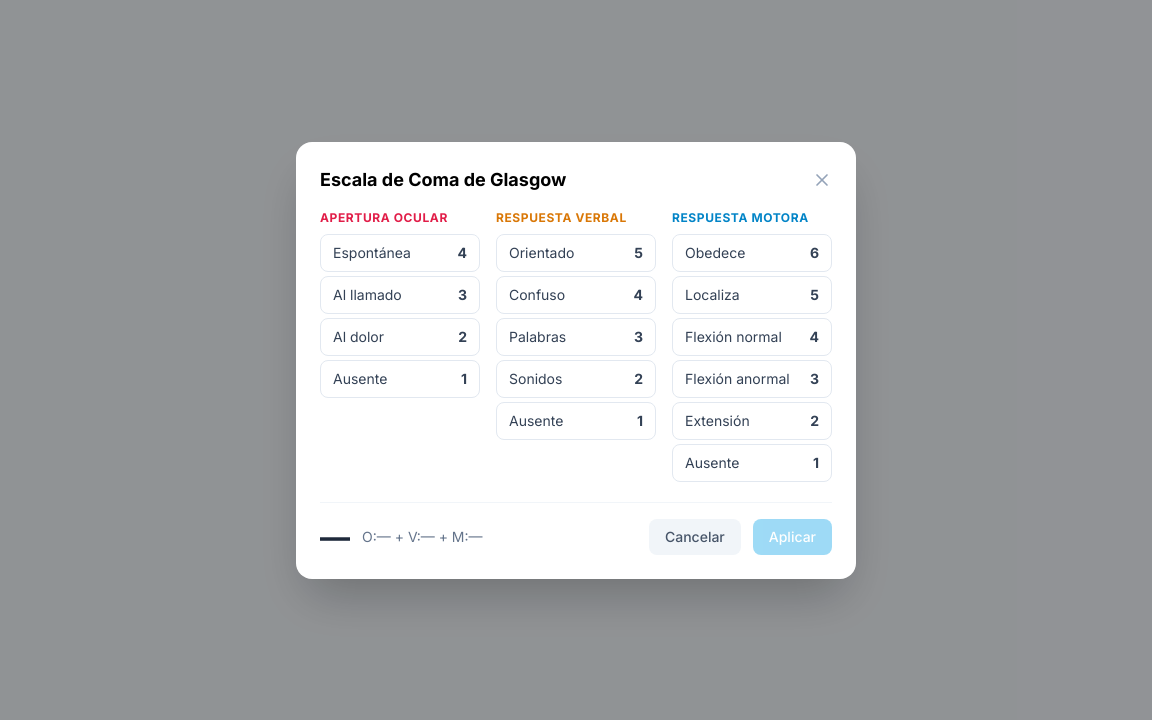
Test: KAN-79: GlasgowModal › calcula total grave (1+1+1=3)
The image size is (1152, 720).
Step 1. Click the text "Ausente" below "Apertura ocular" → (360, 378), box [333,368,387,388]
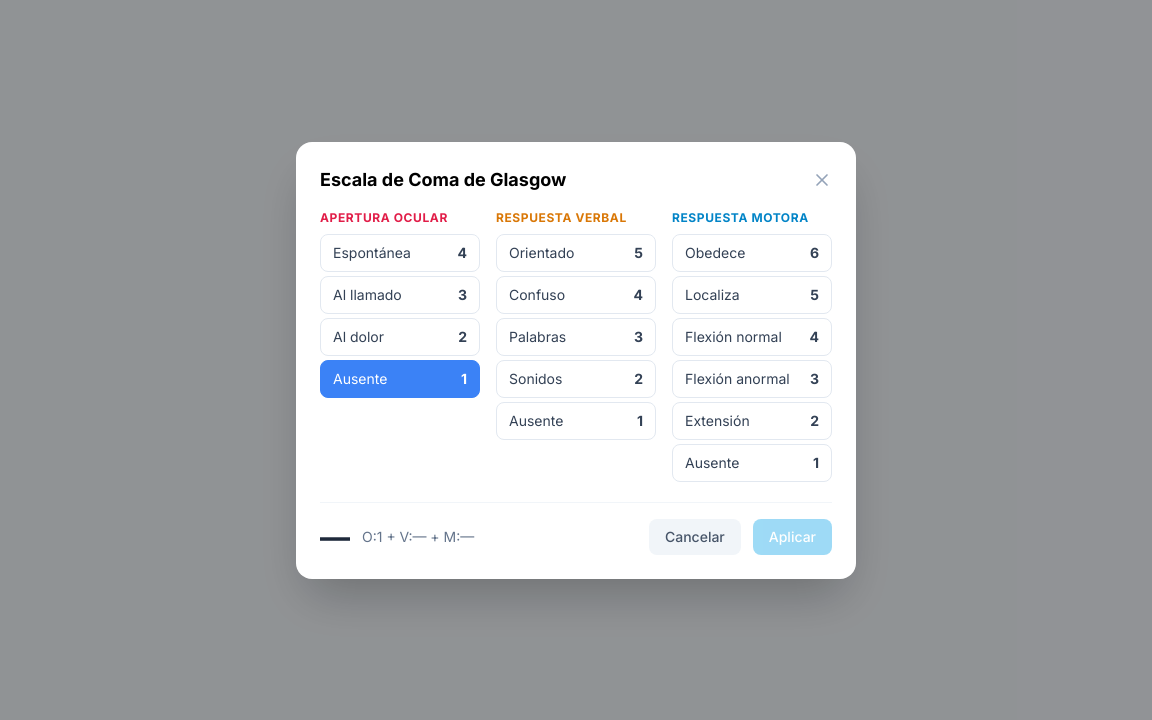
Step 2. Click the text "Ausente" below "Respuesta verbal" → (536, 420), box [509,410,563,430]
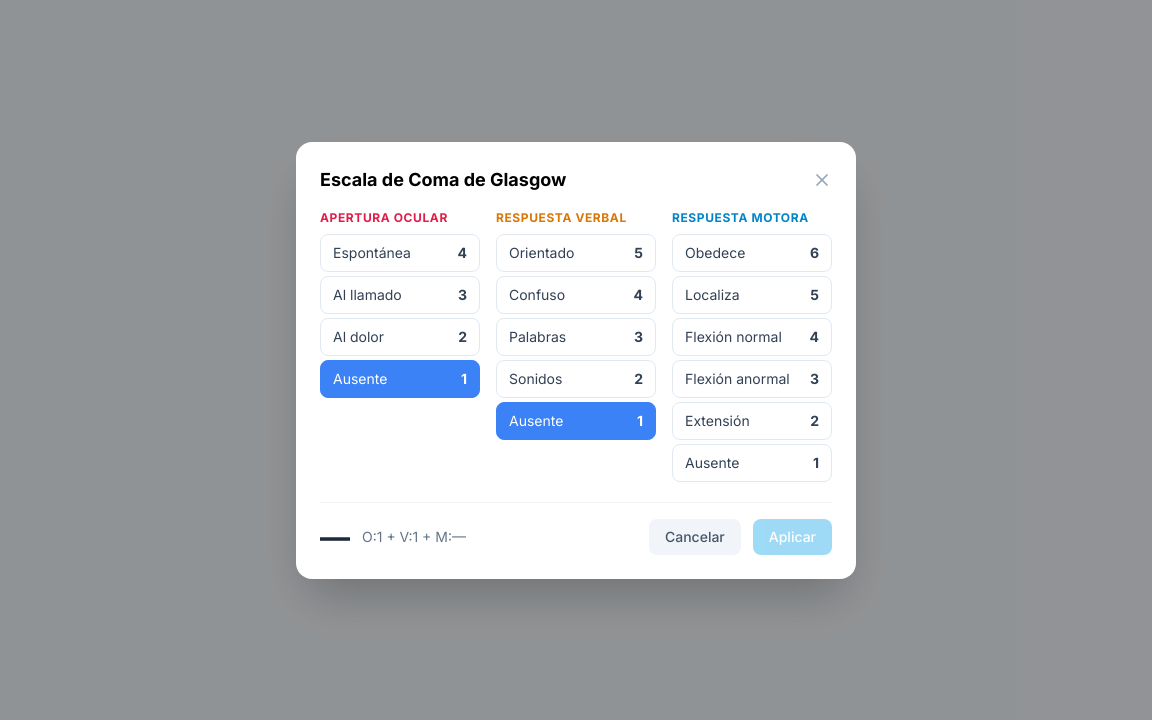
Step 3. Click the text "Ausente" below "Respuesta motora" → (712, 462), box [685,452,739,472]
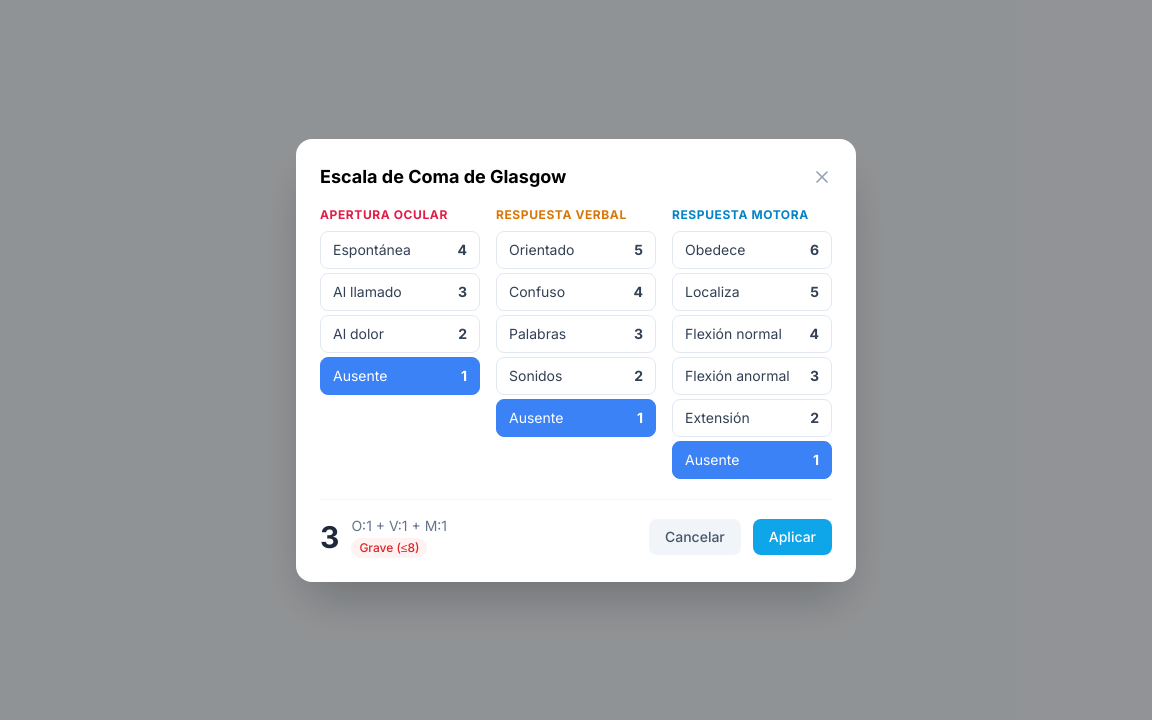
Expected: the text "O:1 + V:1 + M:1" is shown, [351,516,447,536]
Expected: the text "Grave (≤8)" is shown, [351,538,428,558]
